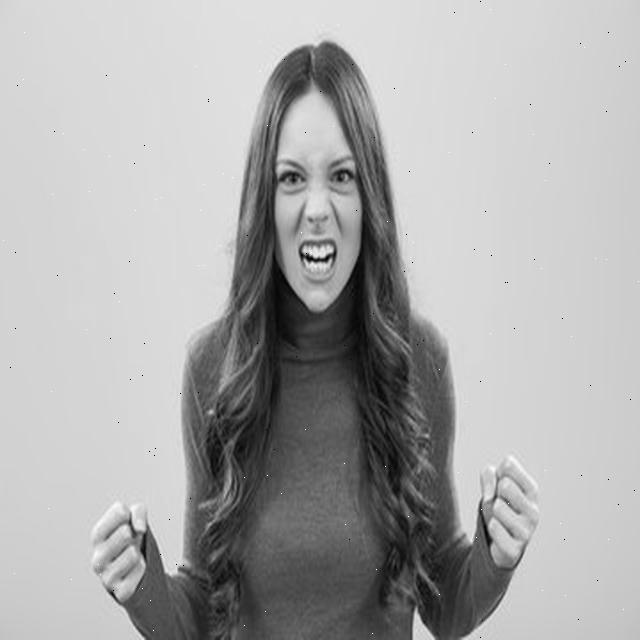Angry: (274, 99, 362, 312)
